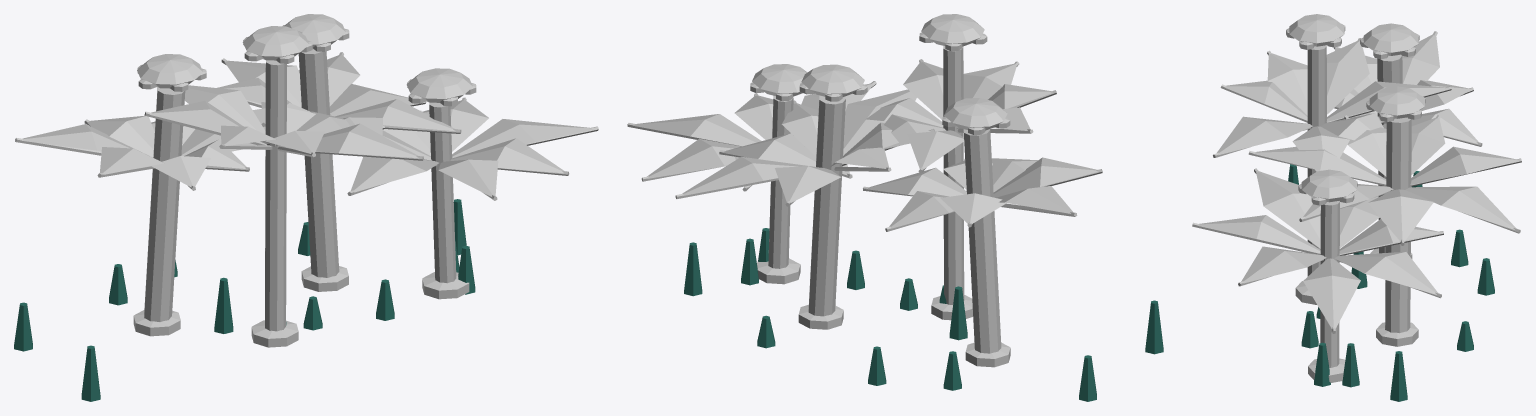
The model's file is biomass_bower_b.obj.
3 views of the same model, side by side, from view 1: azimuth 30°, elevation 25°; view 2: azimuth 150°, elevation 25°; view 3: azimuth 270°, elevation 25° (orthographic). The views are drawn at different scales.
Parts seen in each view (by area): view 1: trunk_0, trunk_1, trunk_2, trunk_3, frond_3_2, frond_1_5, frond_3_3, frond_3_5, frond_1_2, frond_2_4, spore_head_1, spore_head_3 (+31 smaller); view 2: trunk_2, trunk_0, trunk_1, trunk_3, frond_3_2, frond_2_2, frond_3_1, frond_0_1, frond_2_5, frond_2_3, frond_0_5, spore_head_0 (+30 smaller); view 3: trunk_2, frond_3_5, frond_3_2, frond_3_1, frond_2_2, frond_1_1, frond_2_5, frond_2_3, frond_2_1, frond_3_4, trunk_3, frond_1_5 (+32 smaller).
Boxes of the visible parts, bbox=[...] form: trunk_0: bbox=[144, 87, 185, 321]; trunk_1: bbox=[265, 60, 286, 331]; trunk_2: bbox=[298, 49, 339, 277]; trunk_3: bbox=[429, 102, 456, 283]; frond_3_2: bbox=[452, 119, 593, 158]; frond_1_5: bbox=[285, 123, 418, 158]; frond_3_3: bbox=[450, 138, 564, 173]; frond_3_5: bbox=[350, 156, 438, 192]; frond_1_2: bbox=[184, 85, 265, 134]; frond_2_4: bbox=[335, 99, 455, 131]; spore_head_1: bbox=[242, 26, 309, 60]; spore_head_3: bbox=[406, 68, 472, 102]; trunk_2: bbox=[808, 95, 845, 316]; trunk_0: bbox=[963, 129, 1001, 353]; trunk_1: bbox=[943, 46, 964, 304]; trunk_3: bbox=[768, 95, 793, 268]; frond_3_2: bbox=[633, 114, 761, 146]; frond_2_2: bbox=[682, 156, 814, 195]; frond_3_1: bbox=[647, 138, 741, 178]; frond_0_1: bbox=[992, 157, 1098, 197]; frond_2_5: bbox=[843, 89, 916, 155]; frond_2_3: bbox=[722, 133, 816, 166]; frond_0_5: bbox=[866, 167, 966, 196]; spore_head_0: bbox=[944, 98, 1007, 130]; trunk_2: bbox=[1385, 117, 1411, 333]; frond_3_5: bbox=[1256, 171, 1320, 248]; frond_3_2: bbox=[1303, 258, 1360, 328]; frond_3_1: bbox=[1334, 251, 1437, 294]; frond_2_2: bbox=[1405, 186, 1515, 229]; frond_1_1: bbox=[1326, 41, 1369, 114]; frond_2_5: bbox=[1253, 146, 1386, 184]; frond_2_3: bbox=[1368, 189, 1433, 241]; frond_2_1: bbox=[1410, 146, 1517, 184]; frond_3_4: bbox=[1198, 215, 1320, 253]; trunk_3: bbox=[1320, 201, 1339, 367]; frond_1_5: bbox=[1217, 116, 1312, 155].
Bounding box in the file's own units: 9.1 × 5 × 5.34.
